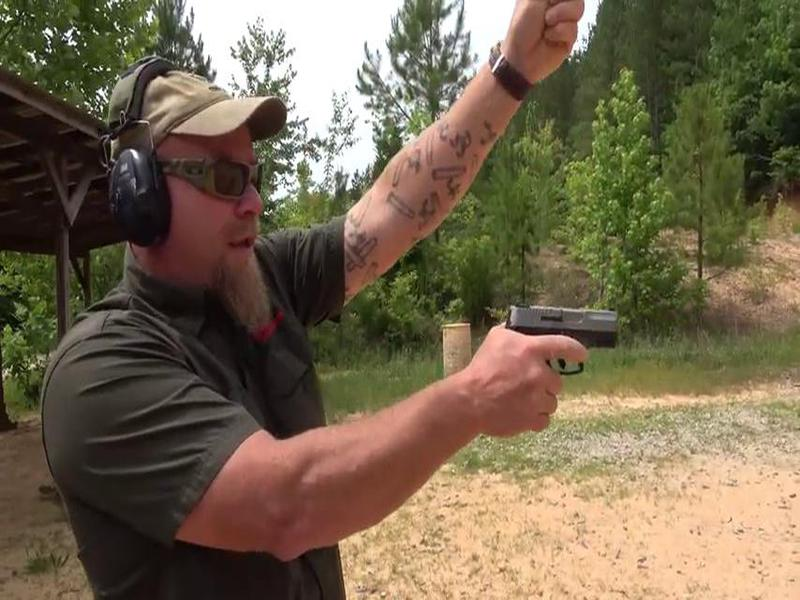Pistola: (505, 302, 631, 374)
